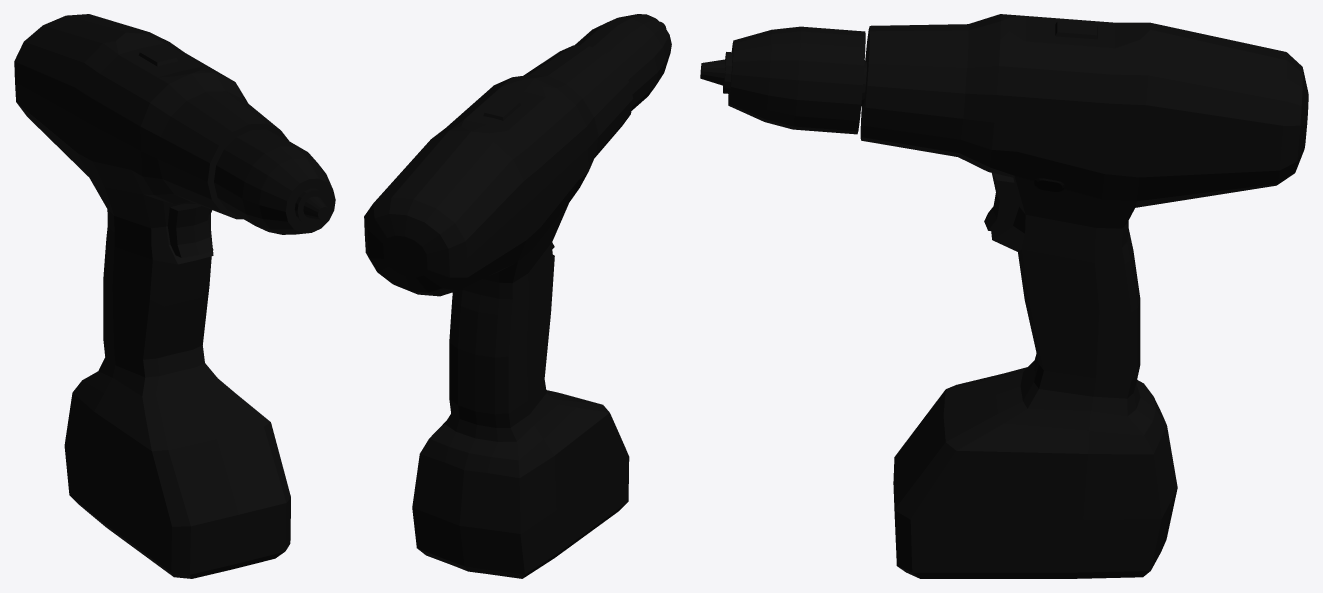
Rendered from drill.dae.
3 views of the same model, side by side, from view 1: azimuth 30°, elevation 25°; view 2: azimuth 150°, elevation 25°; view 3: azimuth 270°, elevation 25° (orthographic). The views are drawn at different scales.
Visible parts, largest first — view 1: node; view 2: node; view 3: node.
Part boxes in pixels (x1,y1,x2,y2): node: (14, 14, 335, 578); node: (364, 14, 671, 578); node: (700, 14, 1308, 578).
Bounding box in the file's own units: 6.94 × 25.87 × 27.01.
